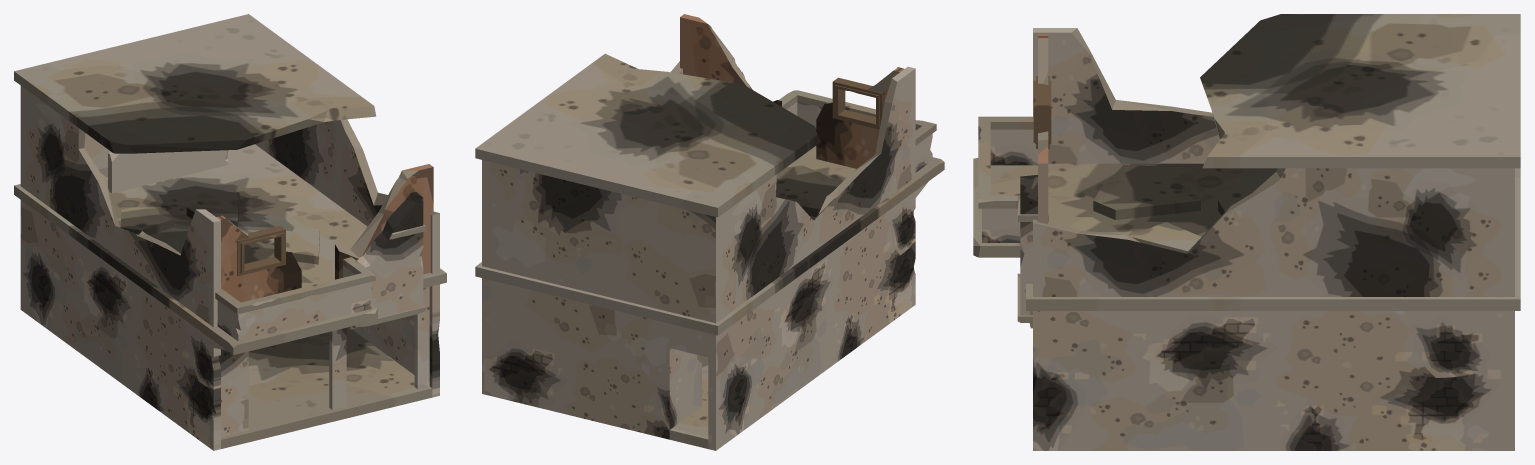
File: SM_Bld_Shop_09_Destroyed.glb
3 views of the same model, side by side, from view 1: azimuth 30°, elevation 25°; view 2: azimuth 150°, elevation 25°; view 3: azimuth 270°, elevation 25° (orthographic). The views are drawn at different scales.
Visible parts, largest first — view 1: SM_Bld_Shop_09_Destroyed; view 2: SM_Bld_Shop_09_Destroyed; view 3: SM_Bld_Shop_09_Destroyed.
Part boxes in pixels (x1,y1,x2,y2): SM_Bld_Shop_09_Destroyed: [14, 14, 446, 450]; SM_Bld_Shop_09_Destroyed: [475, 14, 944, 450]; SM_Bld_Shop_09_Destroyed: [973, 14, 1520, 450].
Size of the model in its own units: 7.02 by 6.79 by 11.36.
Materials: 1 (1 with a texture image).
